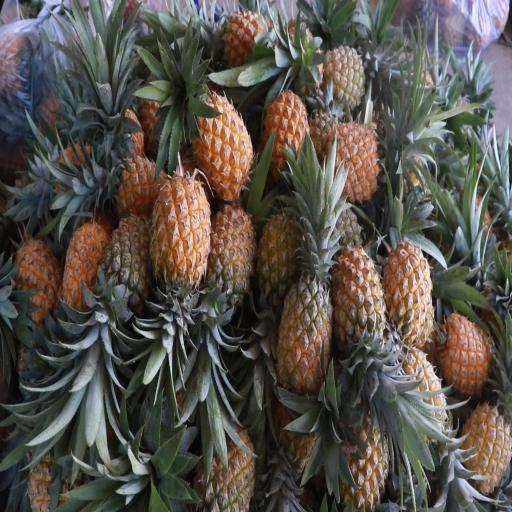------------------------------: (275, 262, 338, 403), (193, 383, 256, 512), (99, 206, 157, 311), (254, 196, 304, 311), (313, 37, 365, 116)
Pineapple - v8 v1: (144, 164, 212, 299), (188, 78, 252, 202), (326, 232, 385, 364), (376, 228, 438, 350), (328, 399, 389, 512), (201, 188, 255, 315), (98, 140, 174, 227), (316, 105, 386, 195), (61, 204, 110, 326), (434, 301, 493, 395), (259, 70, 312, 174), (8, 234, 61, 328), (459, 392, 512, 486), (212, 13, 268, 83)
